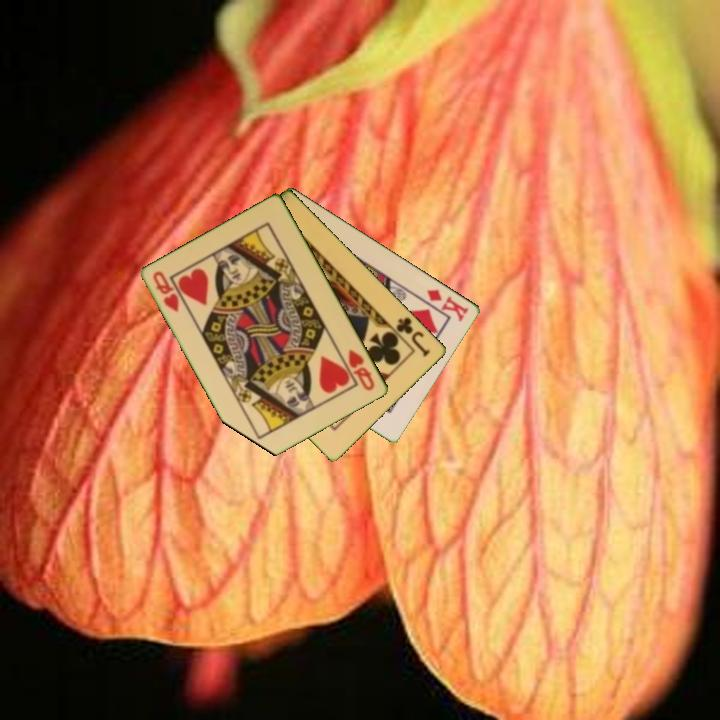Jc: (393, 313, 433, 360)
Kd: (424, 285, 472, 325)
Qh: (345, 346, 378, 394), (150, 267, 182, 315)
